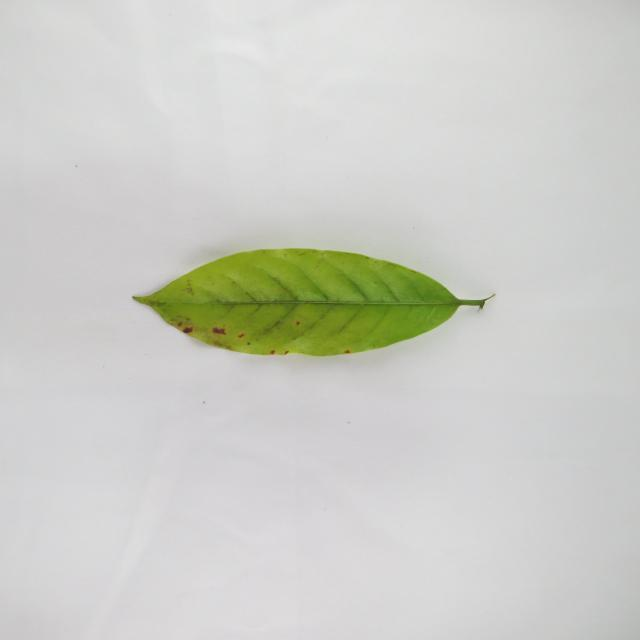DeficienciaNutricional-Nitrogeno: (135, 249, 490, 356)
